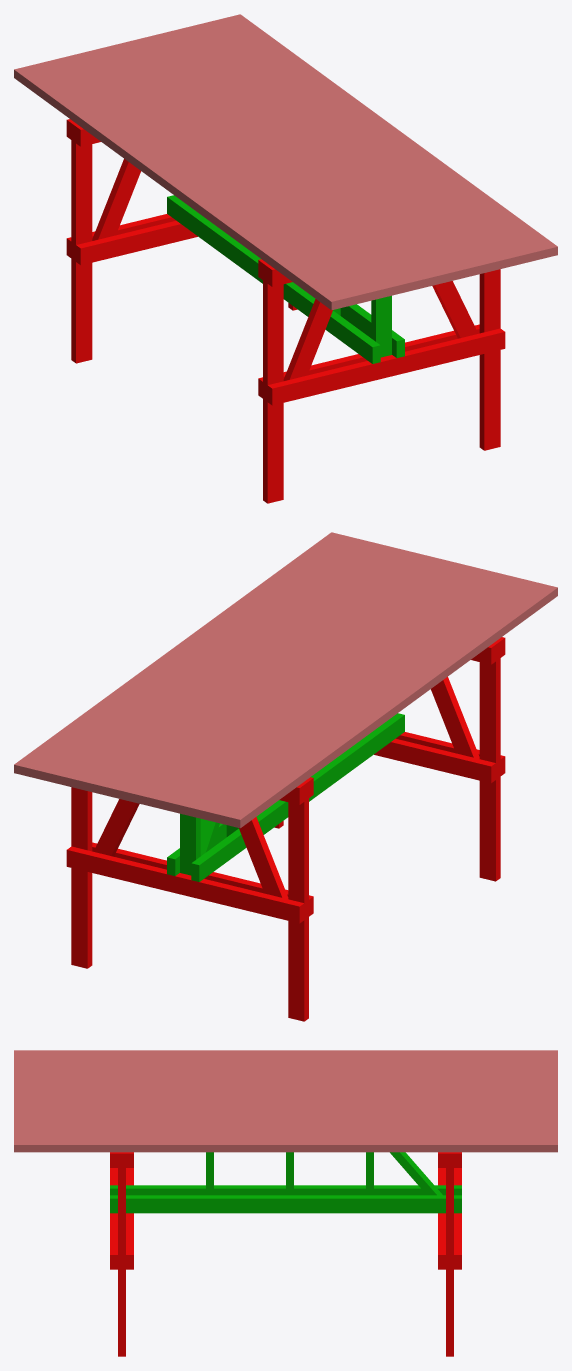
Rendered from result.glb.
3 views of the same model, one above another, from view 1: azimuth 30°, elevation 25°; view 2: azimuth 150°, elevation 25°; view 3: azimuth 270°, elevation 25° (orthographic). The views are drawn at different scales.
Parts seen in each view (by area): view 1: 60803b2d-f21d-4435-ac8d-34a60829b8f0__Box, 89382504-8657-4269-ac38-6bb4f836b53d__undefined, 942dd327-e3ec-495c-9155-674e1c32d3b1__undefined, b2d2ec3a-c0c9-4988-bc7e-7f390cb21913__undefined, 7e97cd39-c00e-487a-b043-e4bc3ef6dca5__undefined, 817074c0-d69d-407e-b0a2-6923ea0ce66c__undefined, 6d77efef-1f8b-43aa-93a9-f8fe4dd007b5__undefined, d2c4f527-d471-4a8c-8ad2-429016a24bd8__undefined, 13783928-a79e-4b68-917c-8ec61d9419d7__undefined, 7f2460bb-9edc-4fbc-b2bc-e429fa79923c__undefined, ea5471a3-4d1c-4d88-a852-51fe91d9de65__undefined, e3dbefd1-f003-441f-a850-dea5dd0b148e__undefined (+15 smaller); view 2: 60803b2d-f21d-4435-ac8d-34a60829b8f0__Box, 89382504-8657-4269-ac38-6bb4f836b53d__undefined, 942dd327-e3ec-495c-9155-674e1c32d3b1__undefined, b2d2ec3a-c0c9-4988-bc7e-7f390cb21913__undefined, 7e97cd39-c00e-487a-b043-e4bc3ef6dca5__undefined, 817074c0-d69d-407e-b0a2-6923ea0ce66c__undefined, 6d77efef-1f8b-43aa-93a9-f8fe4dd007b5__undefined, d2c4f527-d471-4a8c-8ad2-429016a24bd8__undefined, 13783928-a79e-4b68-917c-8ec61d9419d7__undefined, 7f2460bb-9edc-4fbc-b2bc-e429fa79923c__undefined, ea5471a3-4d1c-4d88-a852-51fe91d9de65__undefined, e3dbefd1-f003-441f-a850-dea5dd0b148e__undefined (+14 smaller); view 3: 817074c0-d69d-407e-b0a2-6923ea0ce66c__undefined, 6aacb310-ef26-4c9b-a4a8-f301b44d509f__strutH, 942dd327-e3ec-495c-9155-674e1c32d3b1__undefined, e3dbefd1-f003-441f-a850-dea5dd0b148e__undefined, 6d77efef-1f8b-43aa-93a9-f8fe4dd007b5__undefined, 52c4a96e-30a8-466f-9bd0-1ab14a6b7c5a__undefined, 7e97cd39-c00e-487a-b043-e4bc3ef6dca5__undefined, 7f2460bb-9edc-4fbc-b2bc-e429fa79923c__undefined, 60803b2d-f21d-4435-ac8d-34a60829b8f0__Box, 89382504-8657-4269-ac38-6bb4f836b53d__undefined, e5386bb1-6af7-42fe-894d-31ac2b820704__undefined, ea5471a3-4d1c-4d88-a852-51fe91d9de65__undefined (+11 smaller).
Part boxes in pixels (x1,y1,x2,y2): 60803b2d-f21d-4435-ac8d-34a60829b8f0__Box: (14,65,347,310); 89382504-8657-4269-ac38-6bb4f836b53d__undefined: (30,61,363,306); 942dd327-e3ec-495c-9155-674e1c32d3b1__undefined: (63,53,396,298); b2d2ec3a-c0c9-4988-bc7e-7f390cb21913__undefined: (111,42,444,286); 7e97cd39-c00e-487a-b043-e4bc3ef6dca5__undefined: (192,22,525,266); 817074c0-d69d-407e-b0a2-6923ea0ce66c__undefined: (224,14,557,258); 6d77efef-1f8b-43aa-93a9-f8fe4dd007b5__undefined: (127,38,460,282); d2c4f527-d471-4a8c-8ad2-429016a24bd8__undefined: (160,30,493,274); 13783928-a79e-4b68-917c-8ec61d9419d7__undefined: (176,26,509,270); 7f2460bb-9edc-4fbc-b2bc-e429fa79923c__undefined: (208,18,541,262); ea5471a3-4d1c-4d88-a852-51fe91d9de65__undefined: (95,46,428,290); e3dbefd1-f003-441f-a850-dea5dd0b148e__undefined: (79,50,412,294); 60803b2d-f21d-4435-ac8d-34a60829b8f0__Box: (224,583,557,828); 89382504-8657-4269-ac38-6bb4f836b53d__undefined: (208,579,541,824); 942dd327-e3ec-495c-9155-674e1c32d3b1__undefined: (175,571,508,816); b2d2ec3a-c0c9-4988-bc7e-7f390cb21913__undefined: (127,560,460,804); 7e97cd39-c00e-487a-b043-e4bc3ef6dca5__undefined: (46,540,379,784); 817074c0-d69d-407e-b0a2-6923ea0ce66c__undefined: (14,532,347,776); 6d77efef-1f8b-43aa-93a9-f8fe4dd007b5__undefined: (111,556,444,800); d2c4f527-d471-4a8c-8ad2-429016a24bd8__undefined: (78,548,411,792); 13783928-a79e-4b68-917c-8ec61d9419d7__undefined: (62,544,395,788); 7f2460bb-9edc-4fbc-b2bc-e429fa79923c__undefined: (30,536,363,780); ea5471a3-4d1c-4d88-a852-51fe91d9de65__undefined: (143,564,476,808); e3dbefd1-f003-441f-a850-dea5dd0b148e__undefined: (159,568,492,812); 817074c0-d69d-407e-b0a2-6923ea0ce66c__undefined: (14,1138,557,1152); 6aacb310-ef26-4c9b-a4a8-f301b44d509f__strutH: (110,1195,461,1213); 942dd327-e3ec-495c-9155-674e1c32d3b1__undefined: (14,1070,557,1077); e3dbefd1-f003-441f-a850-dea5dd0b148e__undefined: (14,1077,557,1084); 6d77efef-1f8b-43aa-93a9-f8fe4dd007b5__undefined: (14,1097,557,1104); 52c4a96e-30a8-466f-9bd0-1ab14a6b7c5a__undefined: (14,1104,557,1111); 7e97cd39-c00e-487a-b043-e4bc3ef6dca5__undefined: (14,1124,557,1131); 7f2460bb-9edc-4fbc-b2bc-e429fa79923c__undefined: (14,1131,557,1138); 60803b2d-f21d-4435-ac8d-34a60829b8f0__Box: (14,1050,557,1056); 89382504-8657-4269-ac38-6bb4f836b53d__undefined: (14,1057,557,1063); e5386bb1-6af7-42fe-894d-31ac2b820704__undefined: (14,1064,557,1070); ea5471a3-4d1c-4d88-a852-51fe91d9de65__undefined: (14,1084,557,1090).
Bounding box in the file's own units: 720 × 725 × 1700.
